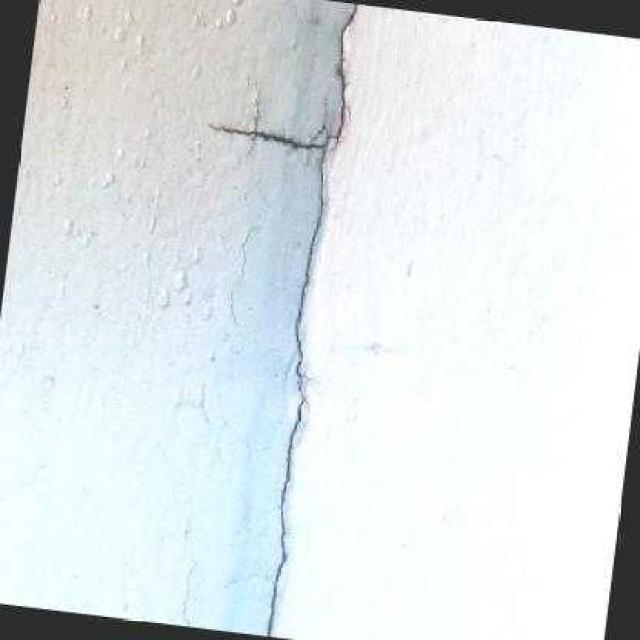D00: (203, 1, 357, 636)
